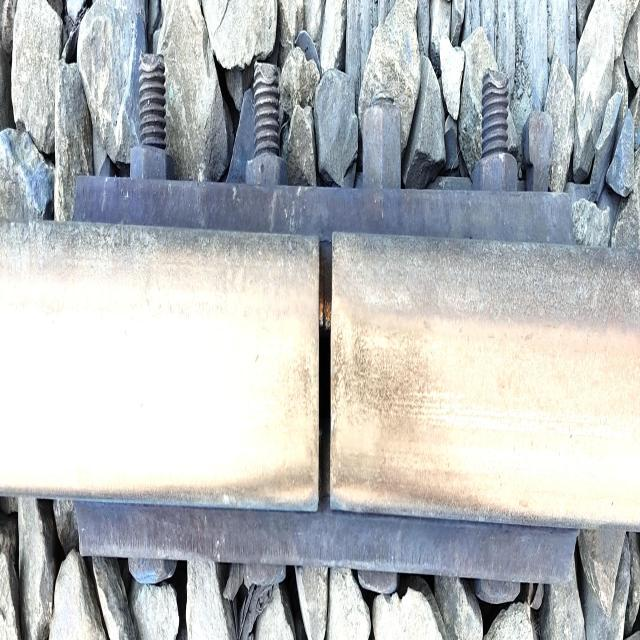Good Joint: (50, 50, 576, 602)
